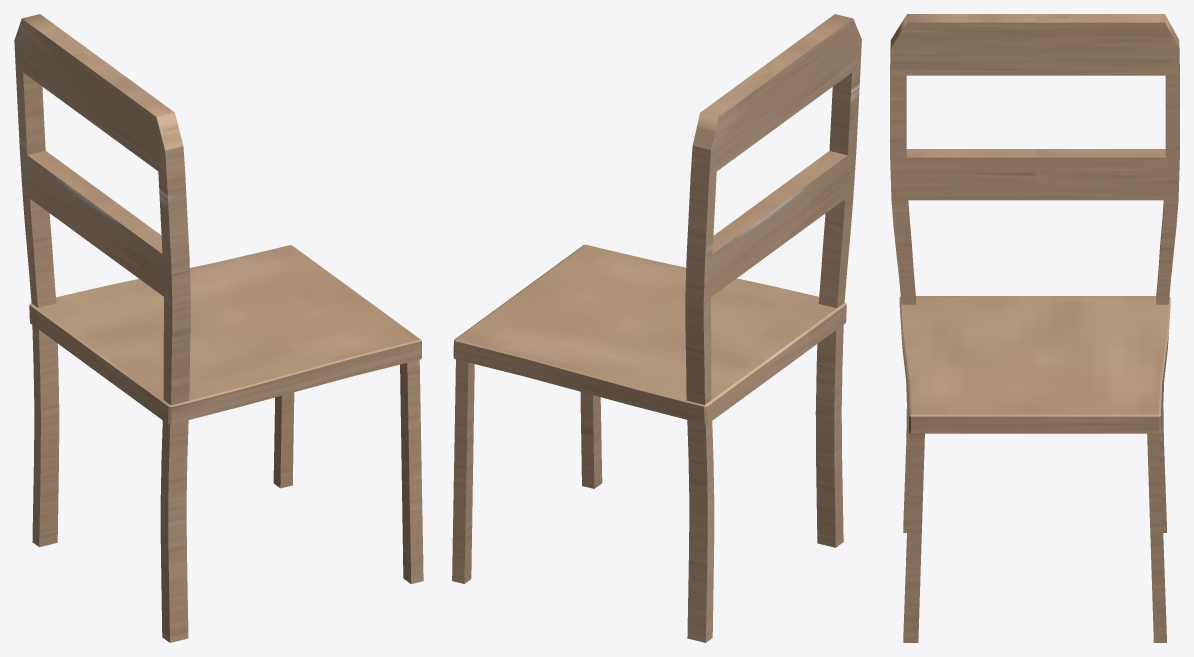
File: Chair1.fbx
3 renders of one model, left to right at view 1: azimuth 30°, elevation 25°; view 2: azimuth 150°, elevation 25°; view 3: azimuth 270°, elevation 25°, orthographic. The views are drawn at different scales.
Parts seen in each view (by area): view 1: PlasticChair; view 2: PlasticChair; view 3: PlasticChair.
Boxes of the visible parts, box(x1,y1,x2,y2) form: PlasticChair: box(14, 14, 423, 642); PlasticChair: box(452, 14, 861, 642); PlasticChair: box(890, 14, 1179, 642).
Bounding box in the file's own units: 6.89 × 12.99 × 6.76.
1 material, 1 textured.
